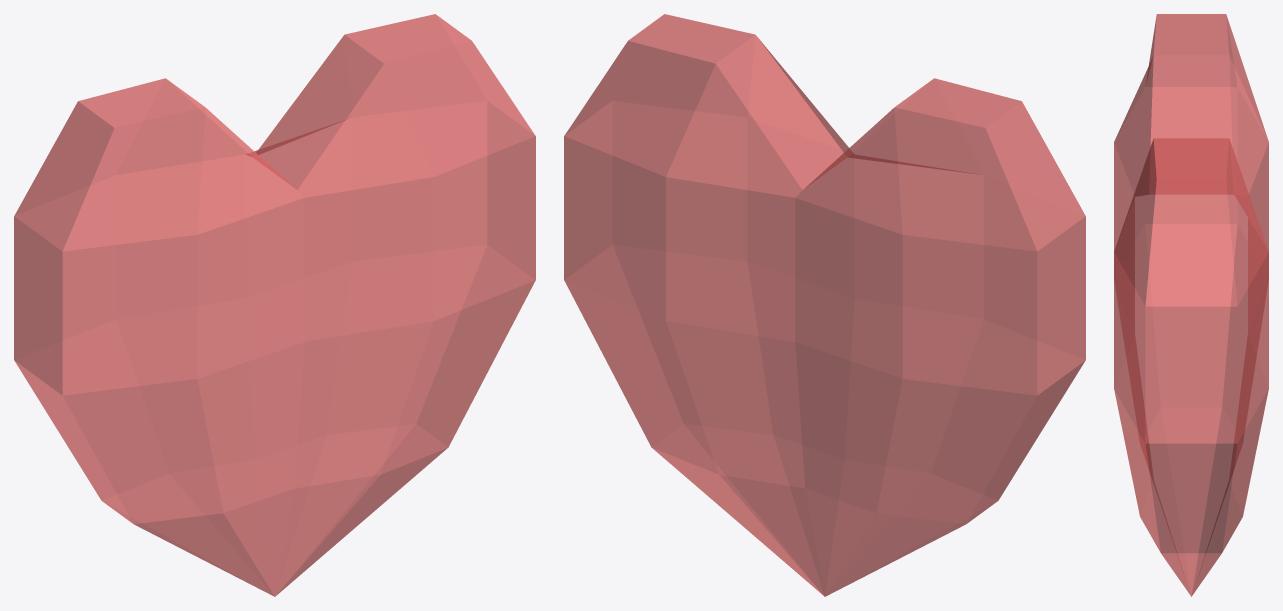
File: heart.glb
3 renders of one model, left to right at view 1: azimuth 30°, elevation 25°; view 2: azimuth 150°, elevation 25°; view 3: azimuth 270°, elevation 25°, orthographic. The views are drawn at different scales.
Visible parts, largest first — view 1: Cube; view 2: Cube; view 3: Cube.
Part boxes in pixels (x1,y1,x2,y2): Cube: (14, 14, 535, 596); Cube: (564, 14, 1085, 596); Cube: (1114, 14, 1268, 596).
Bounding box in the file's own units: 0.3865 × 0.4105 × 0.1152.
